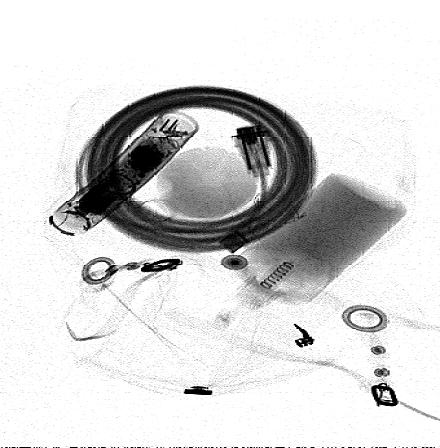Baton: (47, 109, 202, 237)
